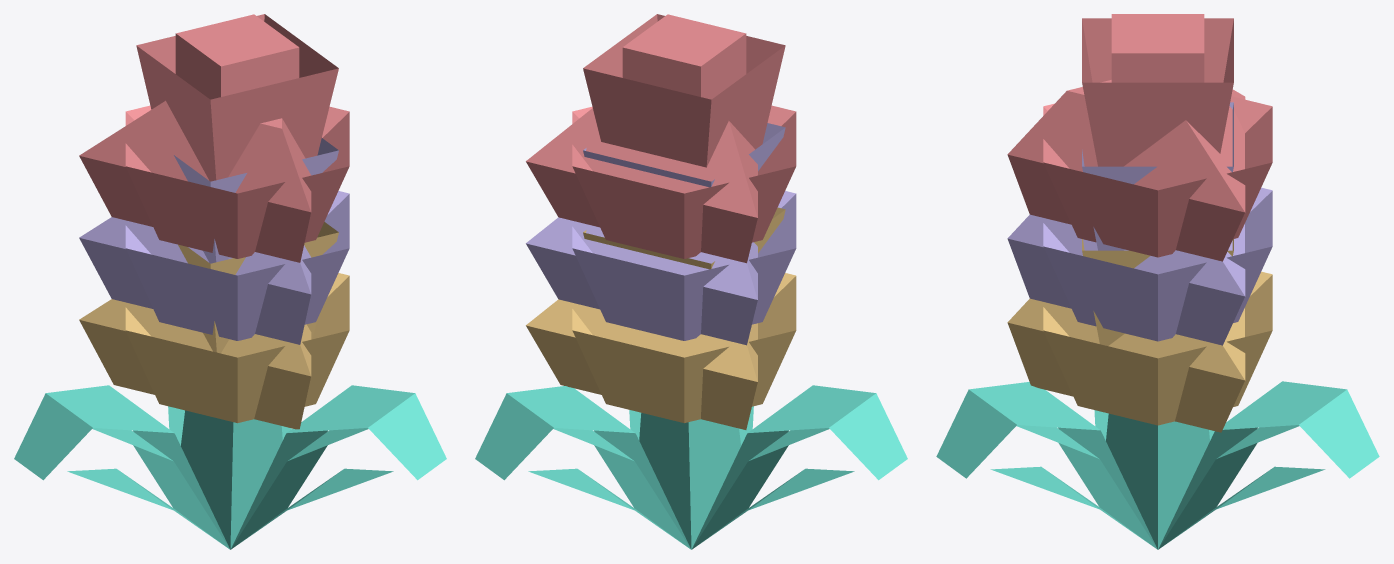
Rendered from flowers.glb.
3 views of the same model, side by side, from view 1: azimuth 30°, elevation 25°; view 2: azimuth 150°, elevation 25°; view 3: azimuth 270°, elevation 25° (orthographic). The views are drawn at different scales.
Parts seen in each view (by area): view 1: flower_redA, flower_purpleB, flower_redB, flower_purpleC, flower_redC, flower_yellowC, flower_yellowB, flower_purpleA, flower_yellowA; view 2: flower_redA, flower_purpleB, flower_purpleC, flower_redB, flower_redC, flower_yellowC, flower_yellowB, flower_purpleA, flower_yellowA; view 3: flower_redA, flower_purpleB, flower_redB, flower_purpleC, flower_redC, flower_yellowC, flower_yellowB, flower_purpleA, flower_yellowA.
Part boxes in pixels (bbox=[...]): flower_redA: bbox=[136, 14, 338, 549]; flower_purpleB: bbox=[14, 217, 446, 548]; flower_redB: bbox=[79, 100, 311, 493]; flower_purpleC: bbox=[67, 191, 393, 546]; flower_redC: bbox=[125, 105, 349, 493]; flower_yellowC: bbox=[125, 273, 349, 423]; flower_yellowB: bbox=[79, 299, 311, 429]; flower_purpleA: bbox=[92, 138, 368, 549]; flower_yellowA: bbox=[178, 222, 338, 353]; flower_redA: bbox=[583, 14, 785, 549]; flower_purpleB: bbox=[475, 217, 907, 548]; flower_purpleC: bbox=[528, 191, 854, 546]; flower_redB: bbox=[526, 108, 757, 548]; flower_redC: bbox=[572, 105, 796, 548]; flower_yellowC: bbox=[572, 273, 796, 423]; flower_yellowB: bbox=[526, 299, 757, 429]; flower_purpleA: bbox=[553, 123, 829, 549]; flower_yellowA: bbox=[583, 207, 785, 269]; flower_redA: bbox=[1082, 14, 1233, 549]; flower_purpleB: bbox=[936, 214, 1379, 547]; flower_redB: bbox=[1007, 80, 1245, 261]; flower_purpleC: bbox=[990, 187, 1325, 546]; flower_redC: bbox=[1043, 96, 1272, 257]; flower_yellowC: bbox=[1043, 271, 1272, 425]; flower_yellowB: bbox=[1007, 298, 1245, 432]; flower_purpleA: bbox=[1016, 102, 1299, 549]; flower_yellowA: bbox=[1082, 239, 1233, 345].
Bounding box in the file's own units: 0.2073 × 0.2925 × 0.2392.
